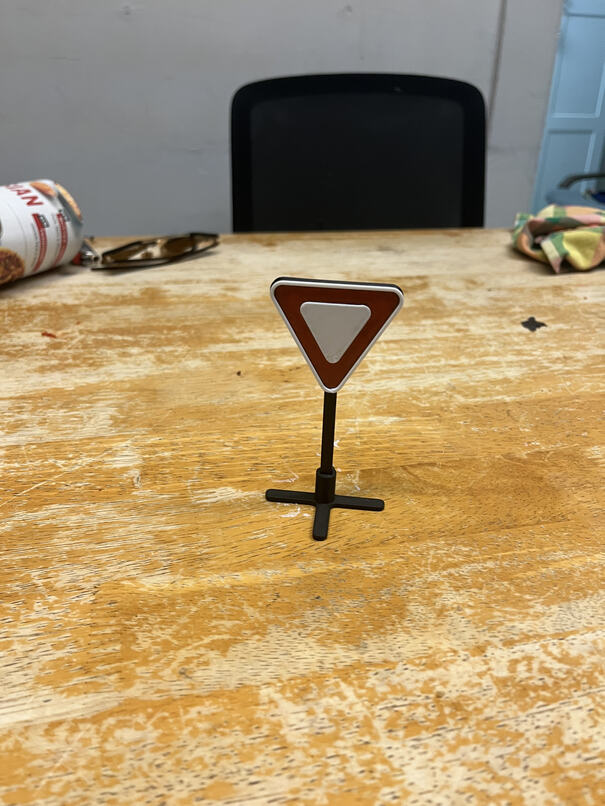sign_yield: (265, 273, 406, 395)
